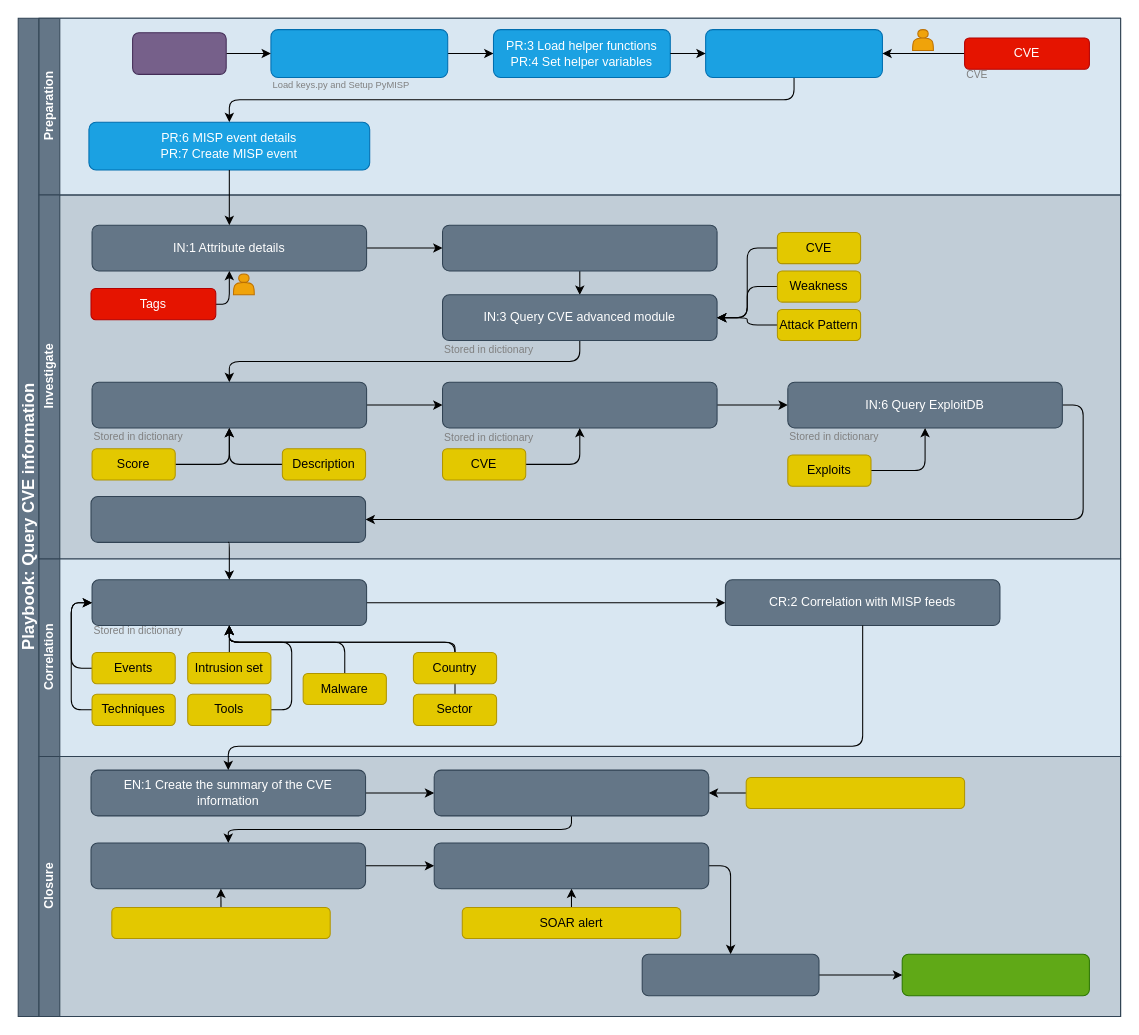
The diagram is 1139 pixels wide and 1035 high, and some of its shapes have lost their labels. Each missing label, with the centre of its shape:
Chat message: point (220, 922)
CR:1 Correlation with MISP events: point (229, 602)
EN:2 Create the summary of the playbook: point (571, 792)
EN:3 Send a summary to Mattermost: point (228, 865)
EN:4 Send an alert to TheHive: point (571, 865)
EN:5 Publish MISP event: point (730, 974)
EN:6 End of the playbook: point (995, 974)
IN:2 Add the CVE to the event: point (579, 247)
IN:4 Query vulners module: point (229, 404)
IN:5 Query IBM XForceExchange module: point (579, 404)
IN:7 Other queries: point (228, 519)
PR:1 Initialise environment PR:2 Verify MISP modules: point (359, 53)
PR:5 What are you searching for?: point (793, 53)
Result in Markdown in playbook: point (855, 792)
Start: point (179, 53)
